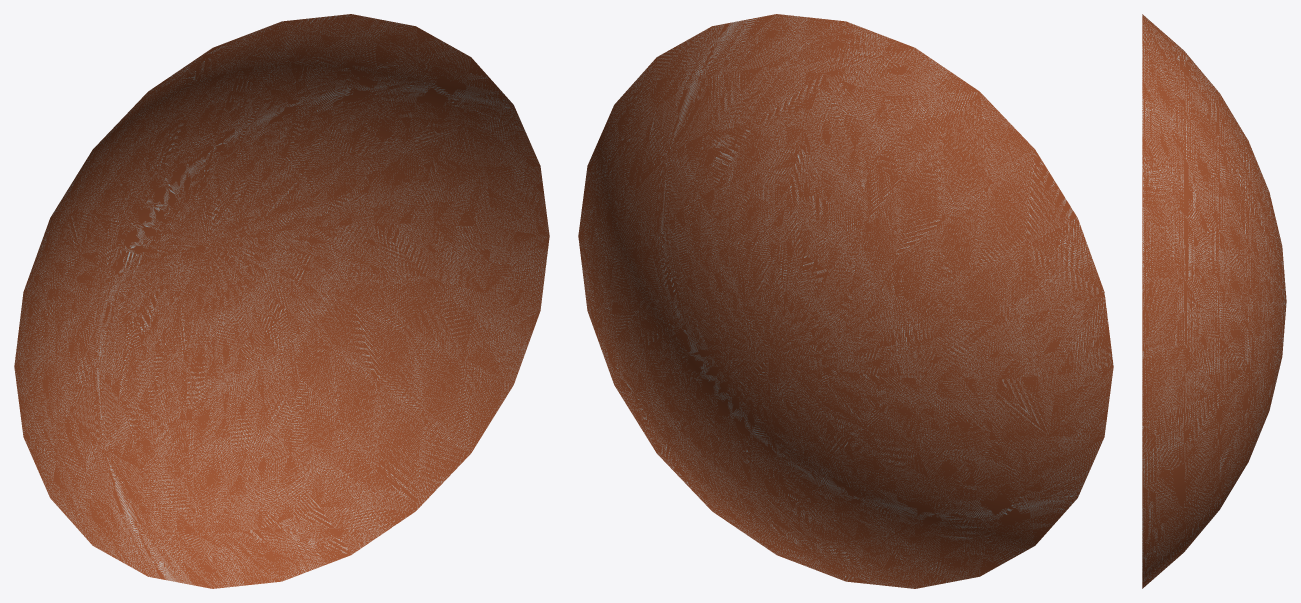
The model's file is original-5.obj.
3 views of the same model, side by side, from view 1: azimuth 30°, elevation 25°; view 2: azimuth 150°, elevation 25°; view 3: azimuth 270°, elevation 25° (orthographic). The views are drawn at different scales.
Parts seen in each view (by area): view 1: Wooden_Plug3/Wooden_Plug/mesh1/mesh1-geometry#mesh1-geometry; view 2: Wooden_Plug3/Wooden_Plug/mesh1/mesh1-geometry#mesh1-geometry; view 3: Wooden_Plug3/Wooden_Plug/mesh1/mesh1-geometry#mesh1-geometry.
Part boxes in pixels (x1,y1,x2,y2): Wooden_Plug3/Wooden_Plug/mesh1/mesh1-geometry#mesh1-geometry: [14, 14, 549, 588]; Wooden_Plug3/Wooden_Plug/mesh1/mesh1-geometry#mesh1-geometry: [578, 14, 1113, 588]; Wooden_Plug3/Wooden_Plug/mesh1/mesh1-geometry#mesh1-geometry: [1142, 14, 1286, 588].
Bounding box in the file's own units: 0.0221 × 0.0221 × 0.00552.
